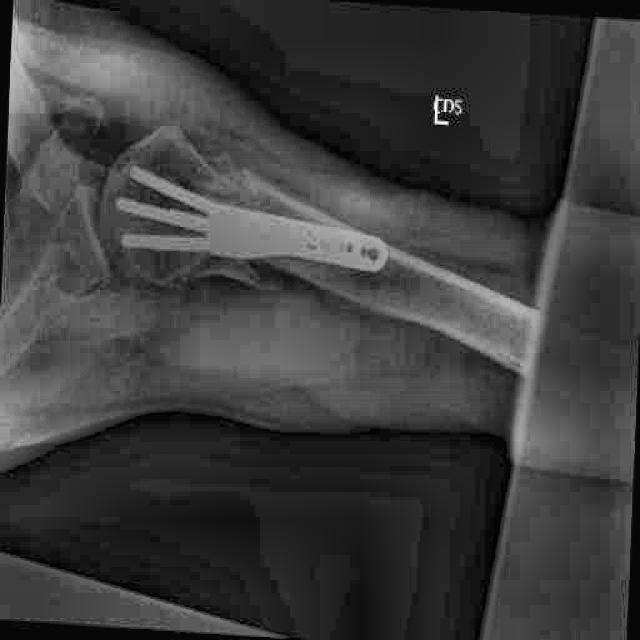shoulder fracture: (224, 251, 306, 309)
